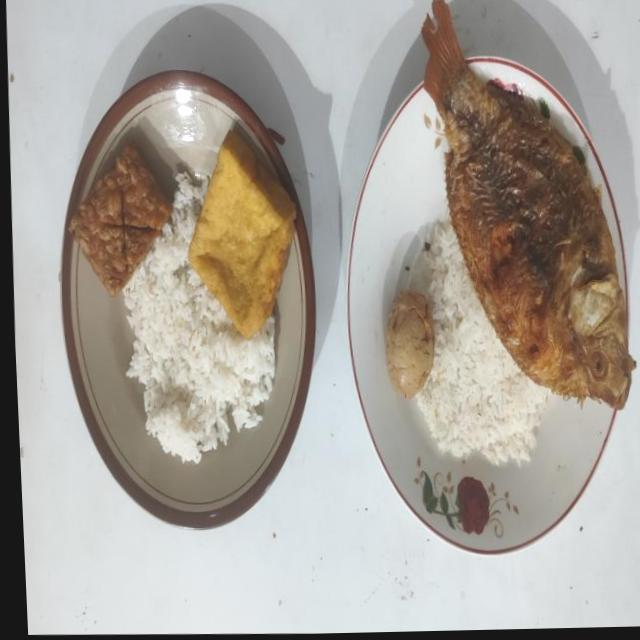ikan_mujair: (422, 0, 632, 409)
nasi_putih: (123, 172, 274, 462), (416, 214, 548, 464)
tahu_goreng: (188, 131, 296, 339)
tempe_goreng: (68, 142, 172, 295)
